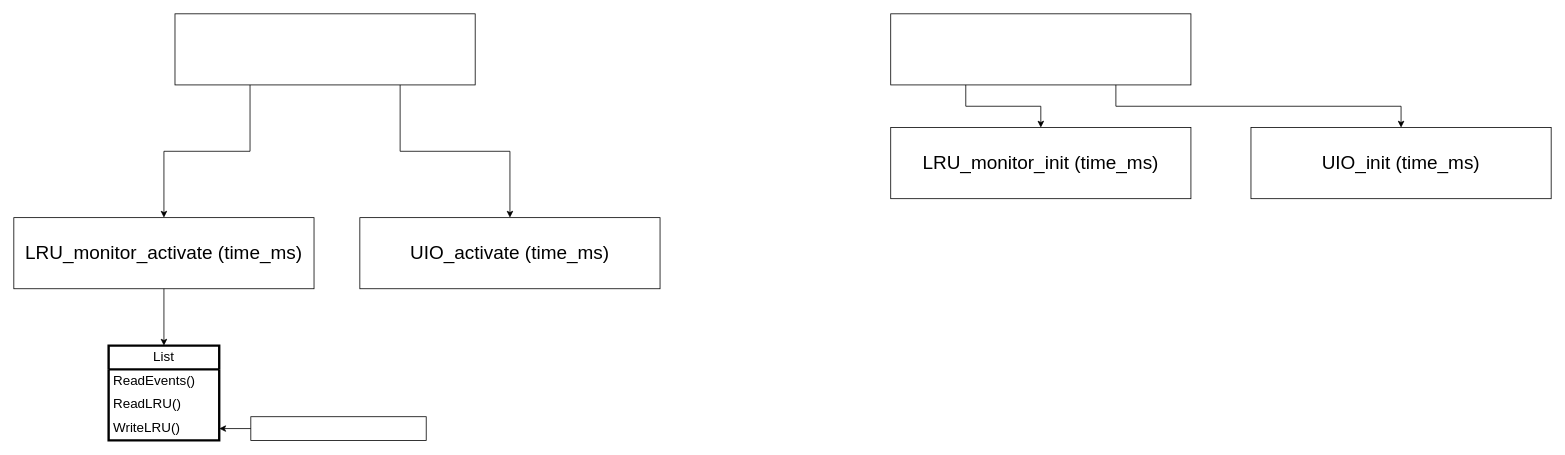
This 1565x455 diagram has some shape labels left out. The shapes that lost their labels are listed below. From the top down, each one's box as (x1, y1, x2, y2) in pixels, then its label:
(174, 13, 475, 85): Activate (time_ms)
(890, 13, 1191, 85): Init (time_ms)
(250, 416, 426, 440): LRU_Output - Lua Table { }
